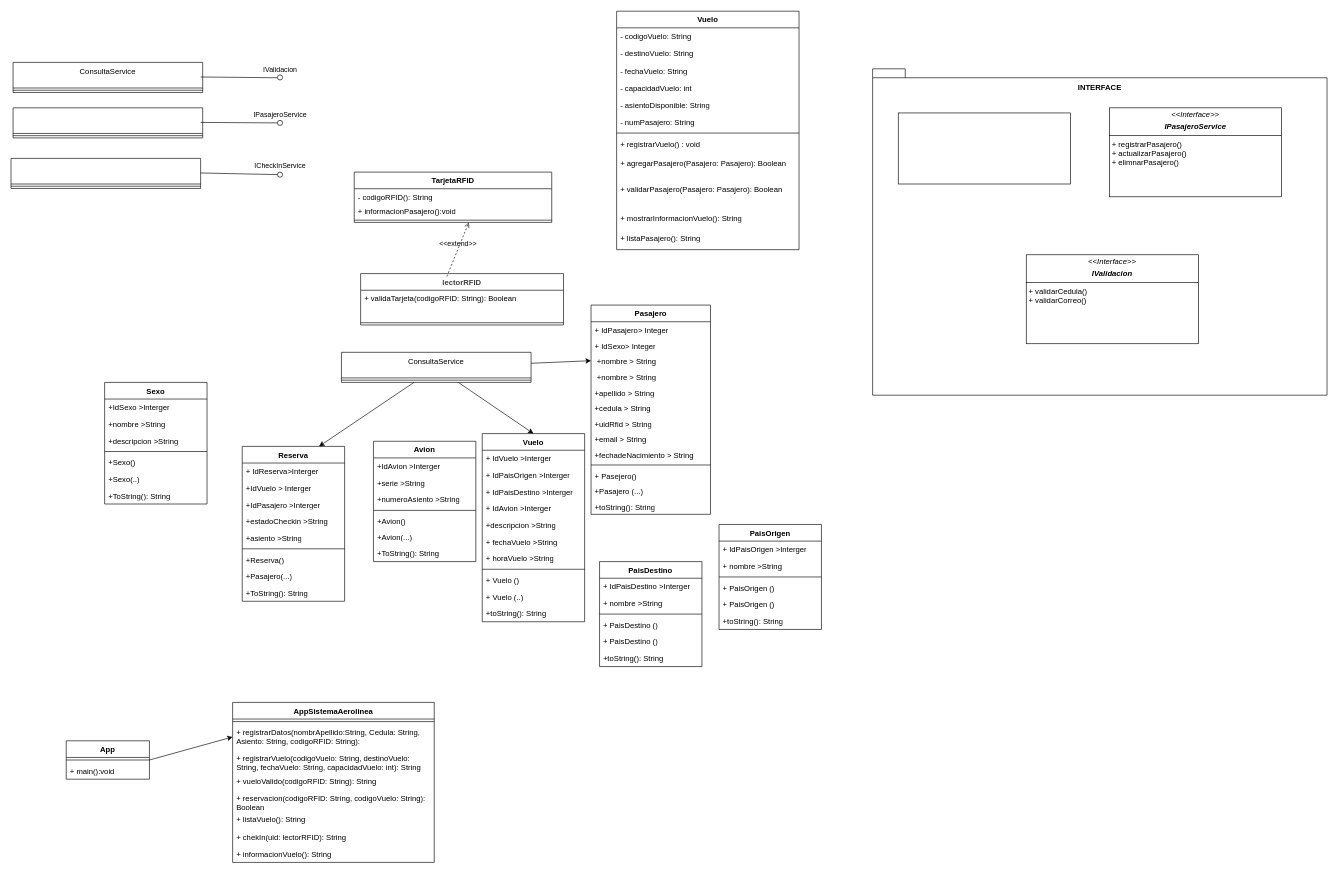
Some shapes in this 1339 by 876 pixel diagram are drawn without their labels. Here are the shapes that lost their labels. From the top down, the centre of each, then its label:
the point at 107,122: Pasajeroimp
the point at 984,148: <<Interface>> ICheckInService + realizarCheckIn() + validarAsientosDisponibles()
the point at 105,173: CheckInServiceimp
